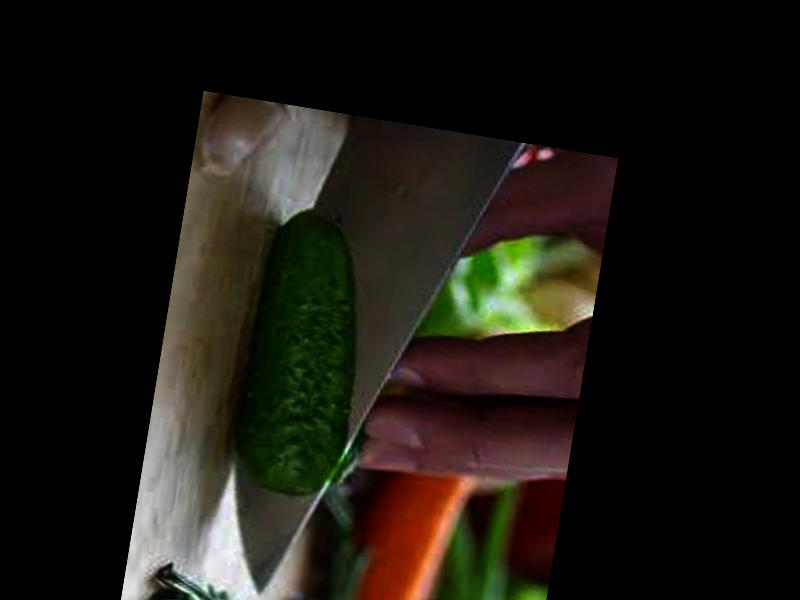Cucumber: (222, 206, 381, 503)
